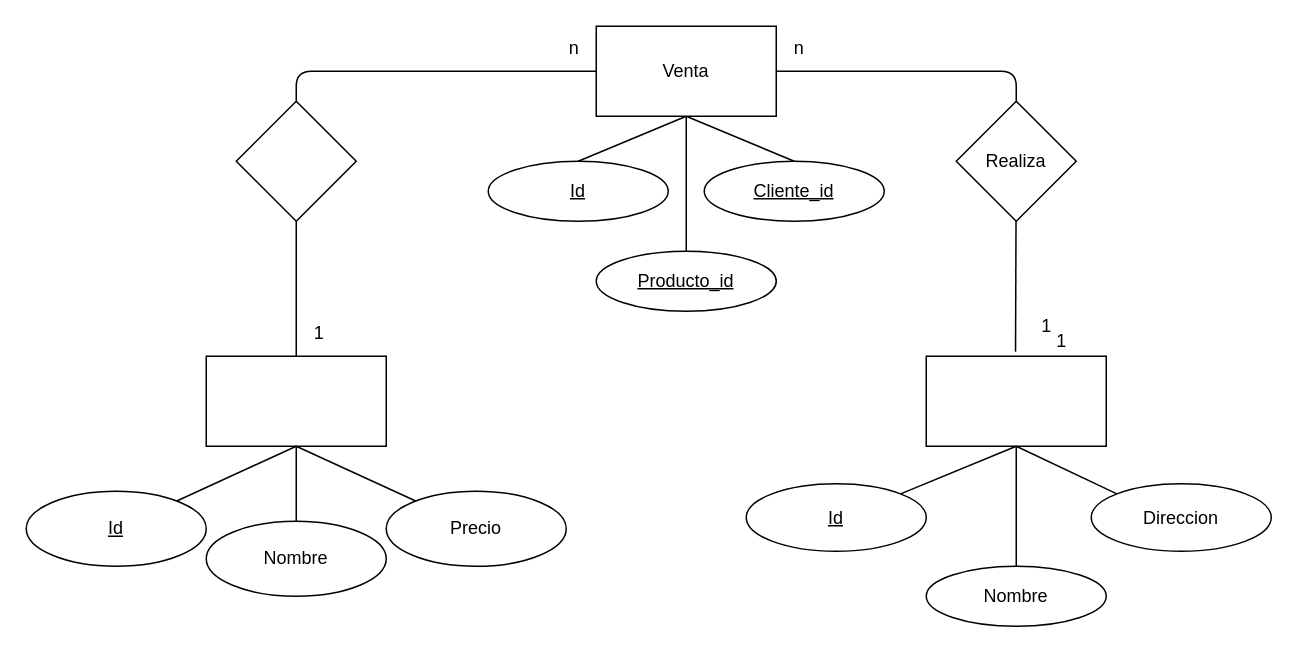
Some shapes in this 1298 by 653 pixel diagram are drawn without their labels. The shapes that lost their labels are listed below. From the top down, each one's centre as x and y in pixels, then its label:
At pixel 295 160: "Ingresa".
At pixel 295 400: "Producto".
At pixel 1015 400: "Cliente".
